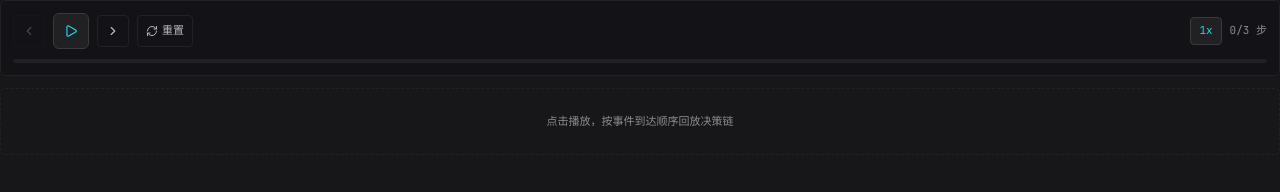
Test case: StepPlayer › 点击下一步逐步展示卡片
This screenshot has width=1280, height=192.
Click the button named "下一步". click: [113, 31]
box: x1=97 y1=15 x2=129 y2=47
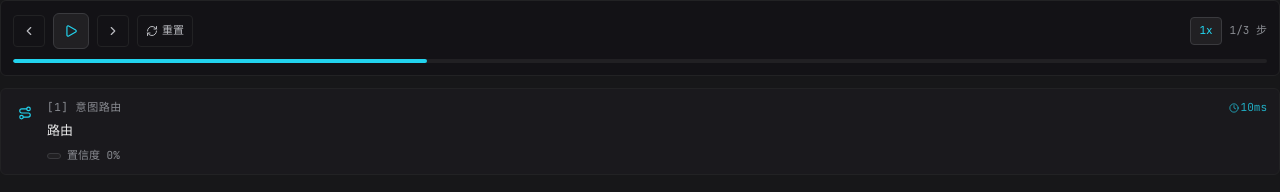
Result: the text "路由" is shown at x1=47 y1=99 x2=122 y2=116
